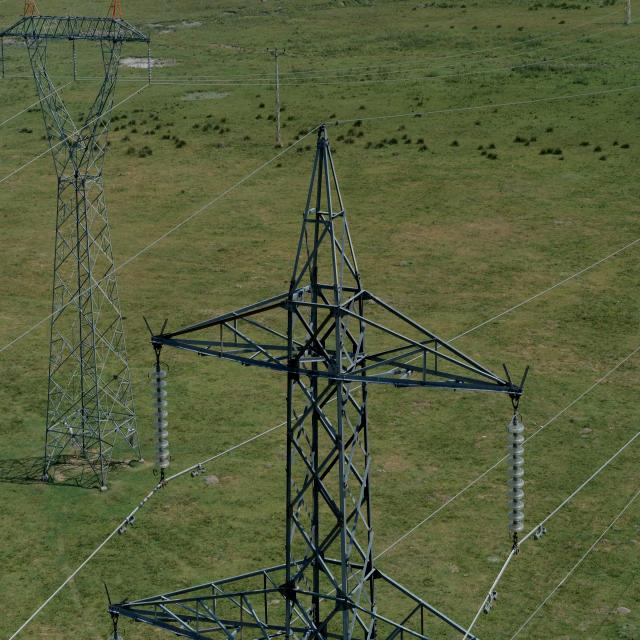voltage_line: (160, 130, 524, 640), (0, 0, 145, 496)
